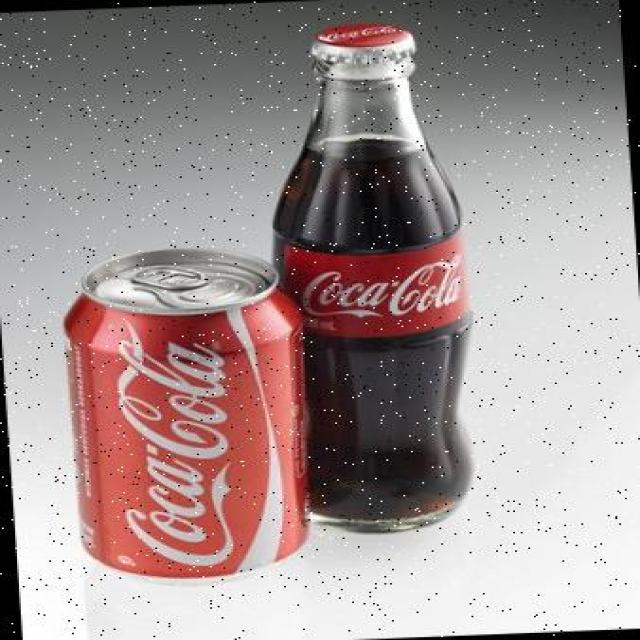coca-cola: (258, 13, 494, 545), (38, 232, 318, 597)
